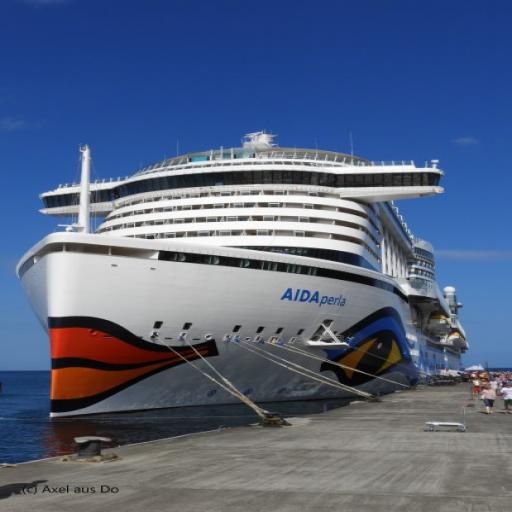cruises: (11, 126, 474, 422)
